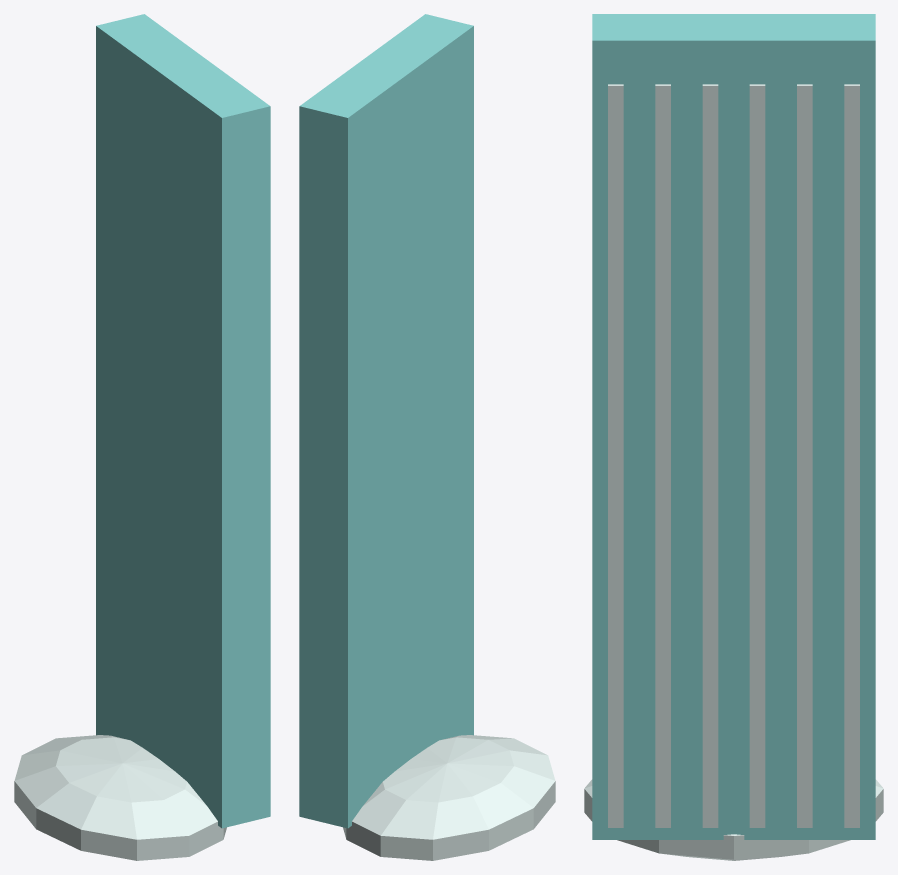
File: cascada_orilla.glb
3 renders of one model, left to right at view 1: azimuth 30°, elevation 25°; view 2: azimuth 150°, elevation 25°; view 3: azimuth 270°, elevation 25°, orthographic. The views are drawn at different scales.
Parts seen in each view (by area): view 1: cascada_orilla; view 2: cascada_orilla; view 3: cascada_orilla.
Boxes of the visible parts, box(x1,y1,x2,y2) form: cascada_orilla: box(14, 14, 270, 860); cascada_orilla: box(299, 14, 555, 860); cascada_orilla: box(584, 14, 883, 860).
Bounding box in the file's own units: 1.45 × 5.92 × 1.9.
